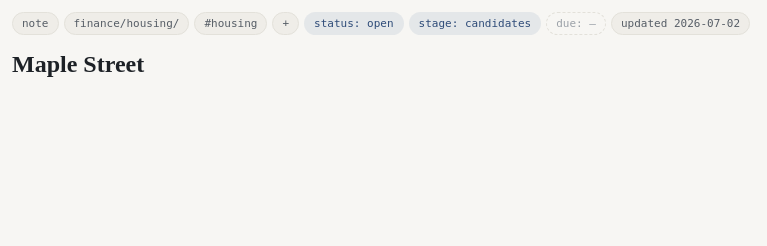
Scenario: the stage chip › offers every stage of every kanban that claims the document, under its board's name
The width and height of the screenshot is (767, 246).
Click the button "stage: candidates" at (475,23), box [409,12,541,35]
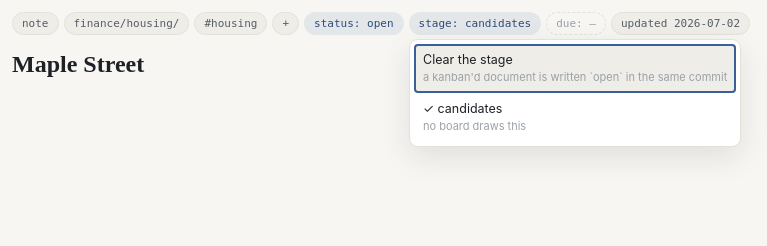
Press Escape
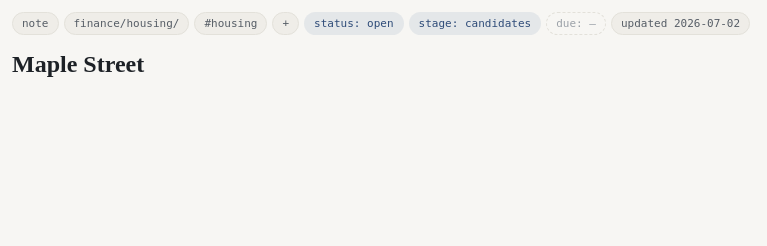
Click the button "stage: candidates" at (475,23), box [409,12,541,35]
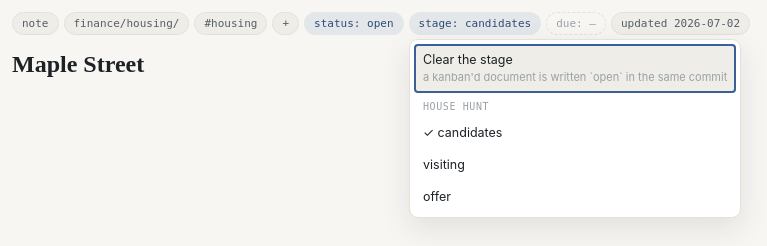
Press Escape
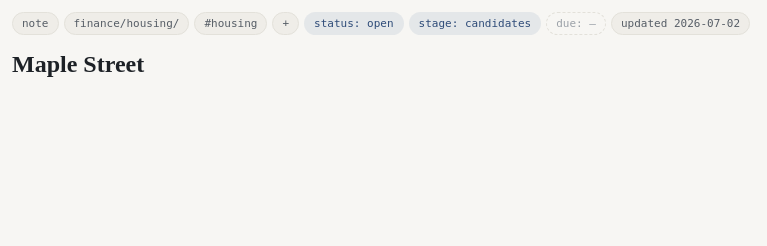
Click the button "stage: candidates" at (475,23), box [409,12,541,35]
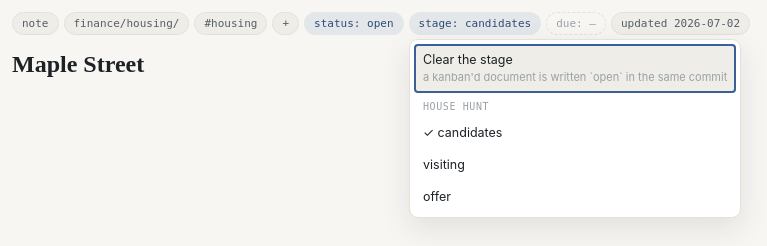
Expected: the menu item "✓ candidates" is shown, [414,117,736,149]
